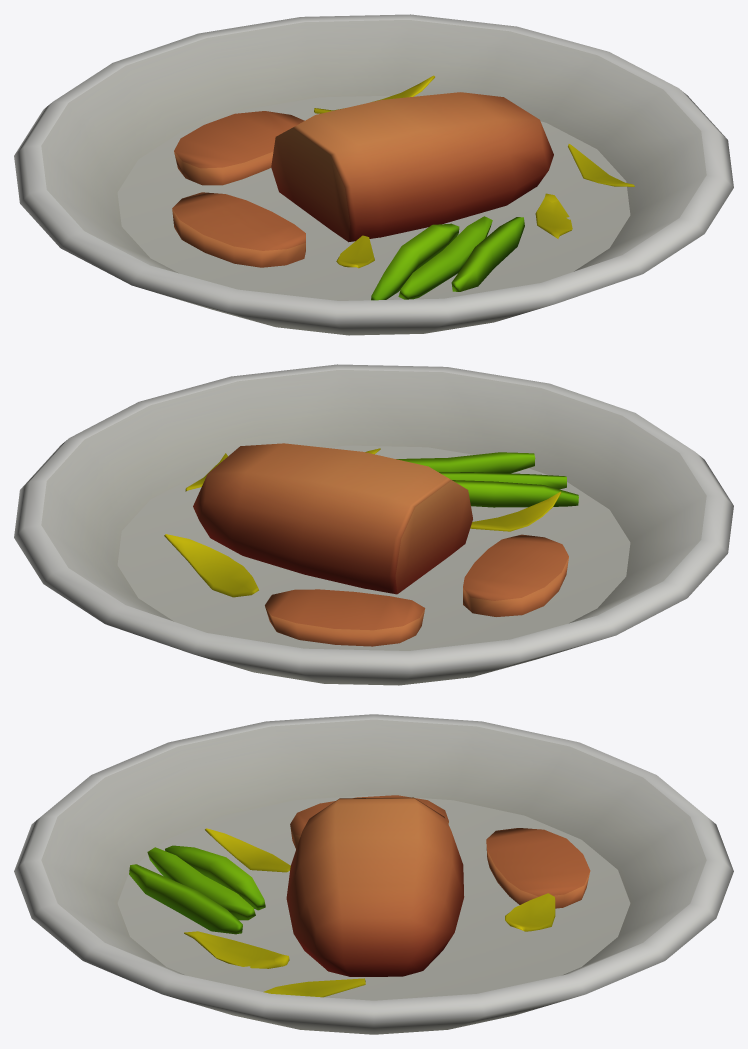
Rendered from liver.glb.
The picture shows the model from 3 angles, top to bottom: view 1: azimuth 30°, elevation 25°; view 2: azimuth 150°, elevation 25°; view 3: azimuth 270°, elevation 25°; orthographic projection.
Parts seen in each view (by area): view 1: SM_Dish_A.009, SM_Food_Meat_04; view 2: SM_Dish_A.009, SM_Food_Meat_04; view 3: SM_Dish_A.009, SM_Food_Meat_04.
Part boxes in pixels (<box>): SM_Dish_A.009: <box>14,14,733,335</box>; SM_Food_Meat_04: <box>172,75,634,300</box>; SM_Dish_A.009: <box>14,364,733,685</box>; SM_Food_Meat_04: <box>164,443,578,646</box>; SM_Dish_A.009: <box>14,714,733,1034</box>; SM_Food_Meat_04: <box>129,795,590,997</box>.
Bounding box in the file's own units: 0.7473 × 0.1278 × 0.7473.
1 material, 1 textured.
